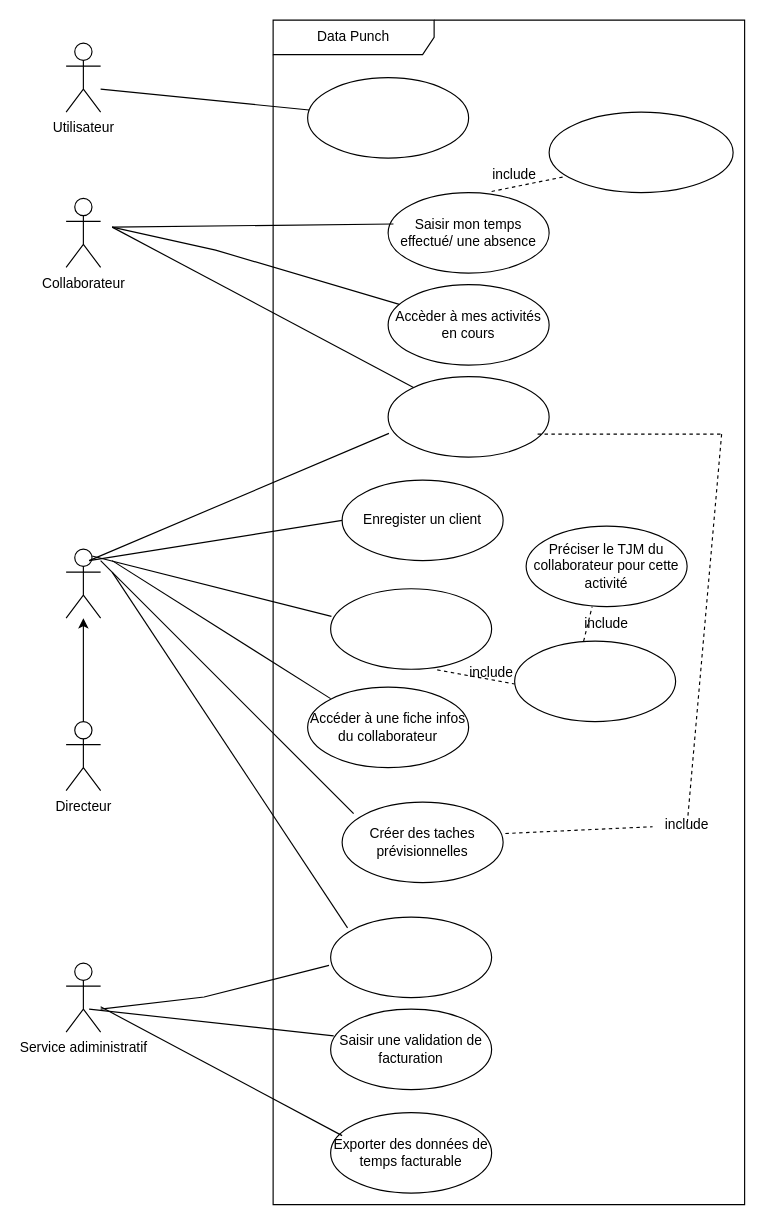
This 765x1225 diagram has some shape labels left out. The shapes that lost their labels are listed below. From the top down, each one's box as (x1, y1, x2, y2) in pixels, then its label:
(306, 76, 469, 158): Me connecter
(548, 111, 733, 193): Créer/Modifier/Sélectionner une tache
(387, 375, 549, 457): Visualiser un planning
(65, 548, 101, 618): Recruteur-placeur
(329, 588, 492, 669): Enregistrer une activité
(513, 640, 676, 722): Affecter un/des collaborateurs
(329, 916, 492, 998): Visualiser l'état de facturation
